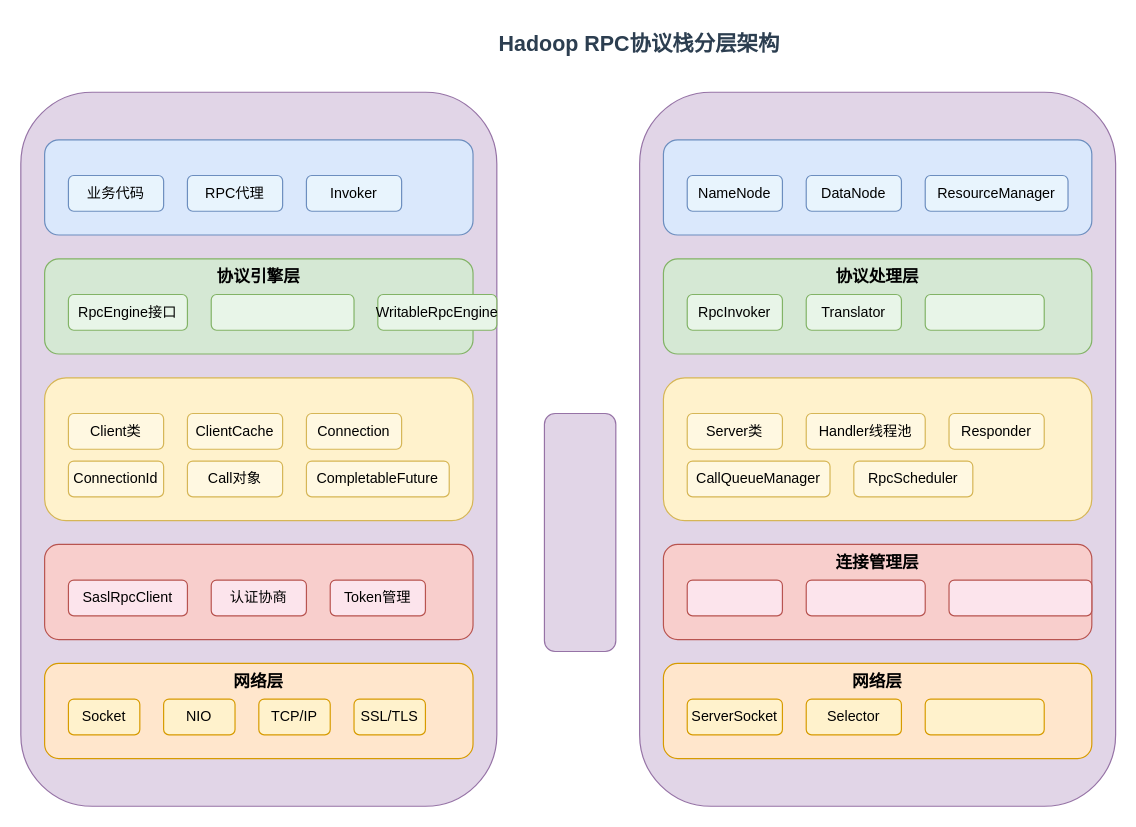
Some shapes in this 1136 by 827 pixel diagram are drawn without their labels. The box of each missing label's shape, as (x1, y1, x2, y2) in pixels:
ConnectionManager: (948, 579, 1092, 616)
Listener: (686, 579, 782, 616)
ProtobufRpcEngine2: (210, 293, 354, 330)
Reader线程池: (805, 579, 925, 616)
SocketChannel: (924, 698, 1044, 735)
安全层: (43, 543, 473, 640)
客户端协议栈: (20, 91, 497, 806)
序列化处理: (924, 293, 1044, 330)
应用层: (43, 139, 473, 235)
服务实现层: (662, 139, 1092, 235)
服务端协议栈: (638, 91, 1116, 806)
网络连接: (543, 412, 616, 652)
请求处理层: (662, 377, 1092, 521)
通信层: (43, 377, 473, 521)
